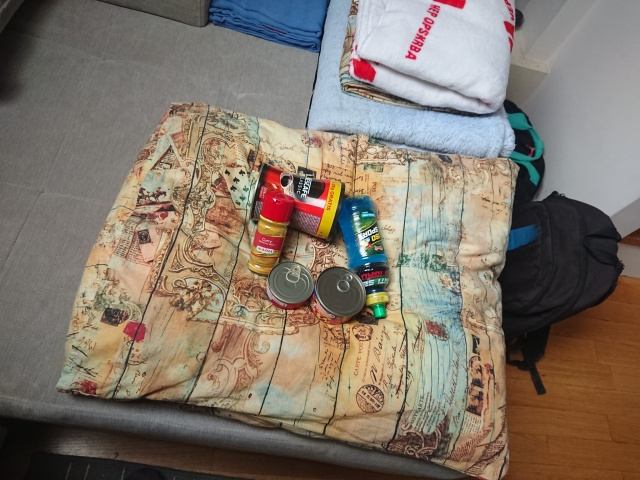Gavrilovic Pork Liver Pate 100g: (264, 259, 315, 312)
Giana Tuna Salad Mexico 185g: (308, 264, 368, 327)
Kotanyi Curry Spices Mix 70g: (246, 189, 299, 279)
Nescafe Classic 225g: (247, 160, 348, 243)
Vindi Iso Sport Forest Strawberries 500mL: (333, 193, 392, 322)
